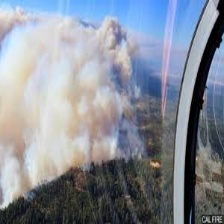smoke: (2, 11, 142, 165)
